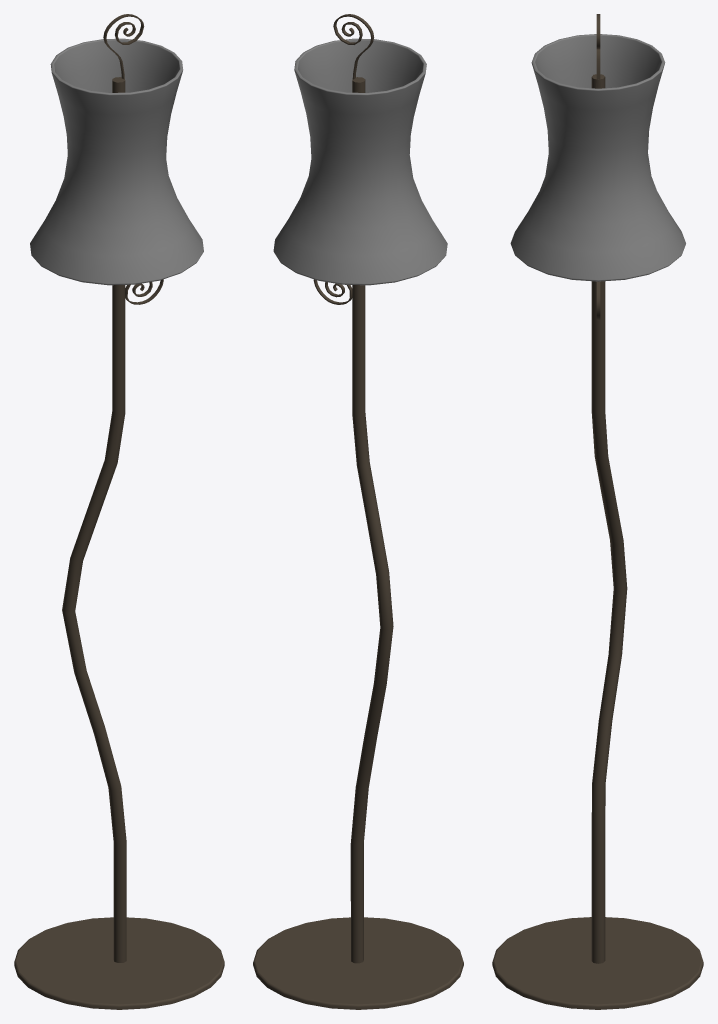
3 renders of one model, left to right at view 1: azimuth 30°, elevation 25°; view 2: azimuth 150°, elevation 25°; view 3: azimuth 270°, elevation 25°, orthographic.
Parts seen in each view (by area): view 1: Light-068; view 2: Light-068; view 3: Light-068.
Part boxes in pixels (box(x1,y1,x2,y2)): Light-068: box(14, 14, 224, 1009); Light-068: box(253, 14, 463, 1009); Light-068: box(492, 14, 703, 1009).
Size of the model in its own units: 9.87 by 9.87 by 49.04.
